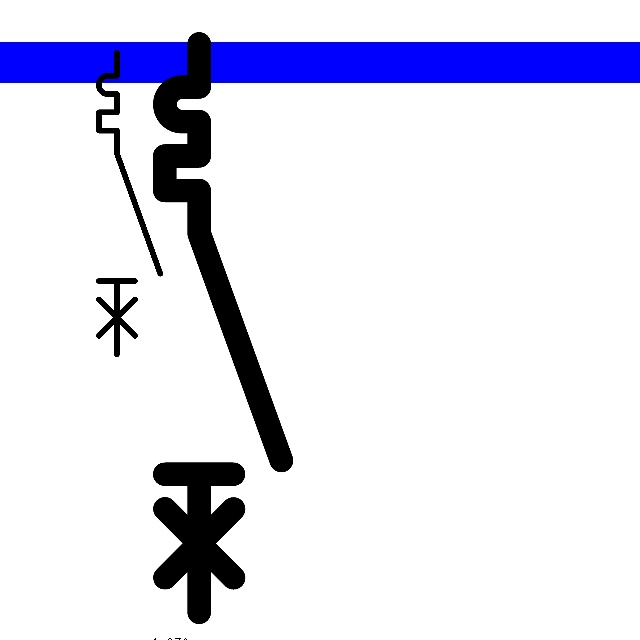interruptor_termomagnetico: (150, 29, 296, 626), (91, 45, 168, 362)
